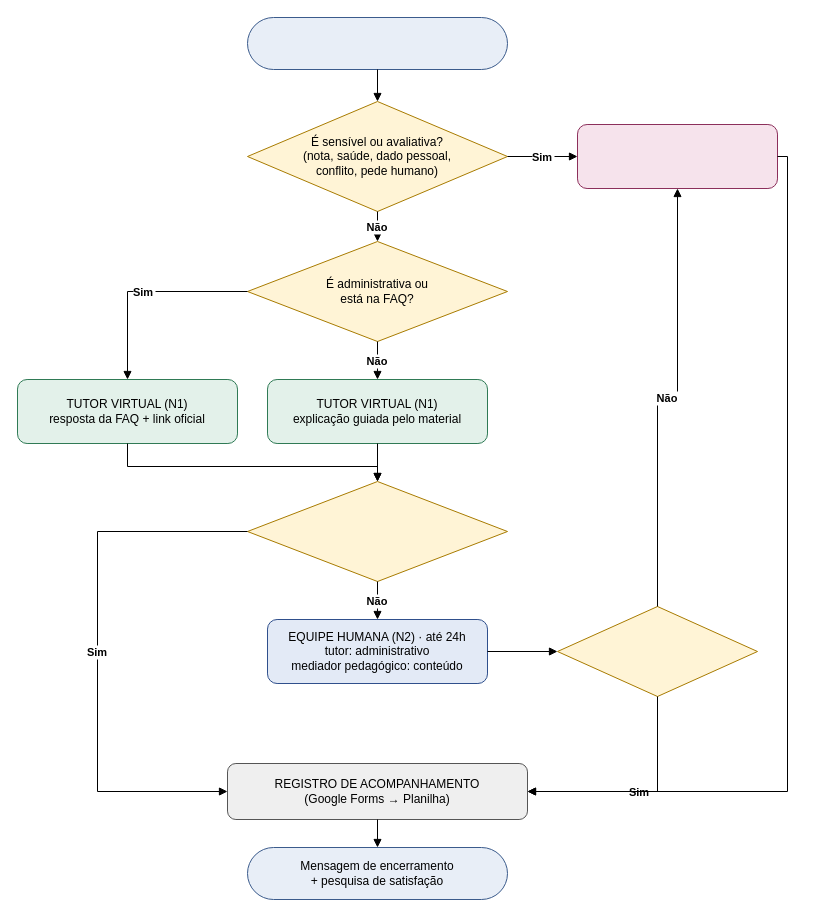
Image size: 813x917. Some labels were removed from this diagram. The box of each missing label's shape, as (x1, y1, x2, y2) in pixels:
Estudante envia a dúvida (fórum, chat do AVA ou e-mail): (246, 16, 508, 70)
PROFESSOR (N3) resposta reservada · até 48h úteis: (576, 124, 778, 188)
Resolveu em até 2 tentativas?: (246, 480, 508, 582)
Resolveu sem envolver critério de avaliação?: (556, 606, 758, 696)
